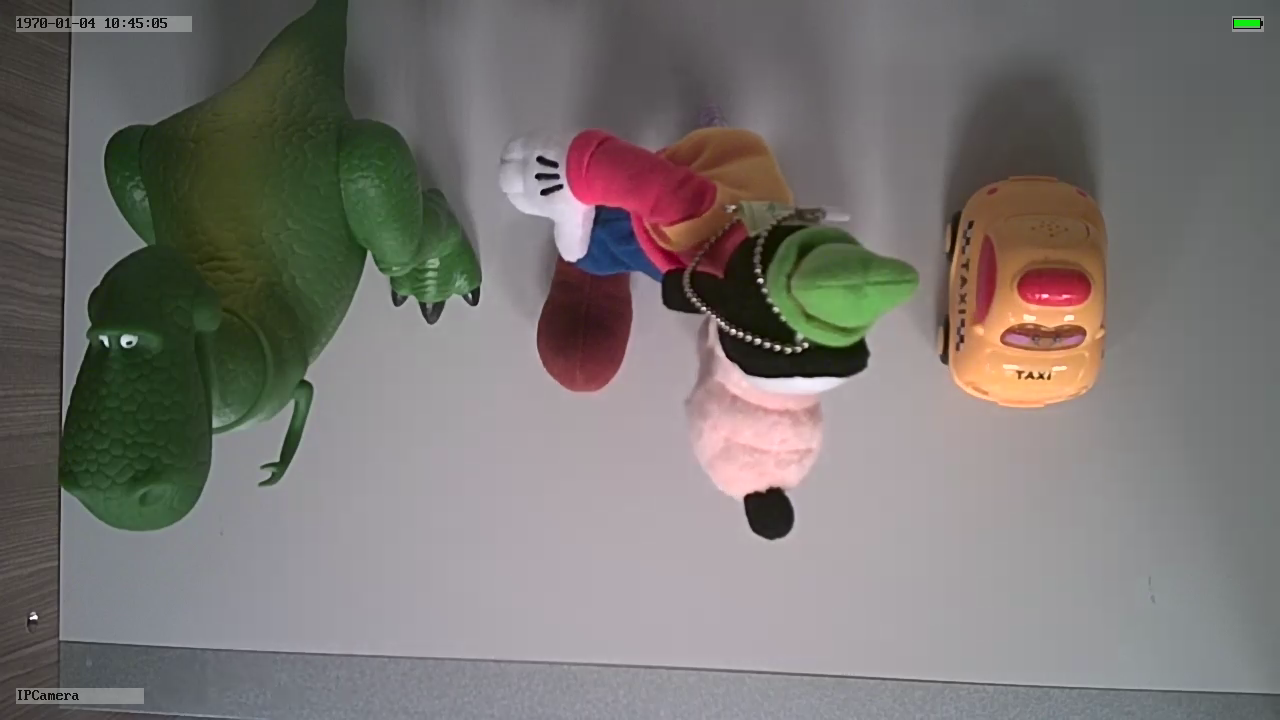goofy: (493, 122, 924, 544)
